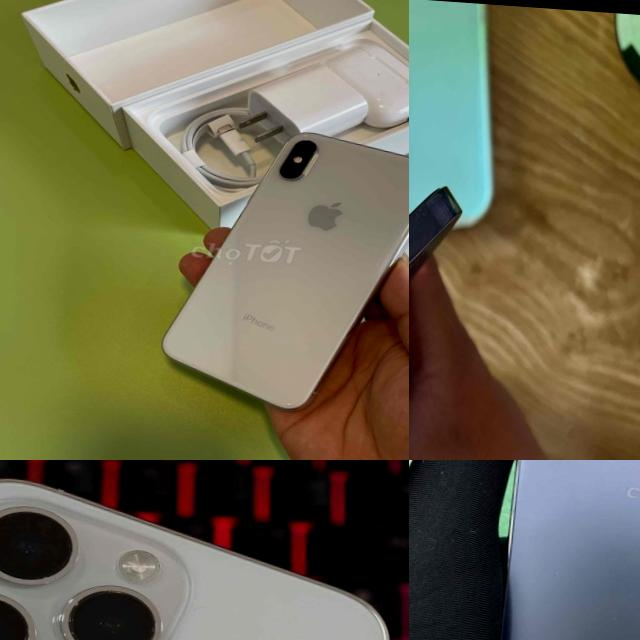gen_14: (0, 461, 403, 640), (481, 460, 640, 640), (409, 165, 473, 456)
gen_x_xs: (163, 132, 409, 408)
